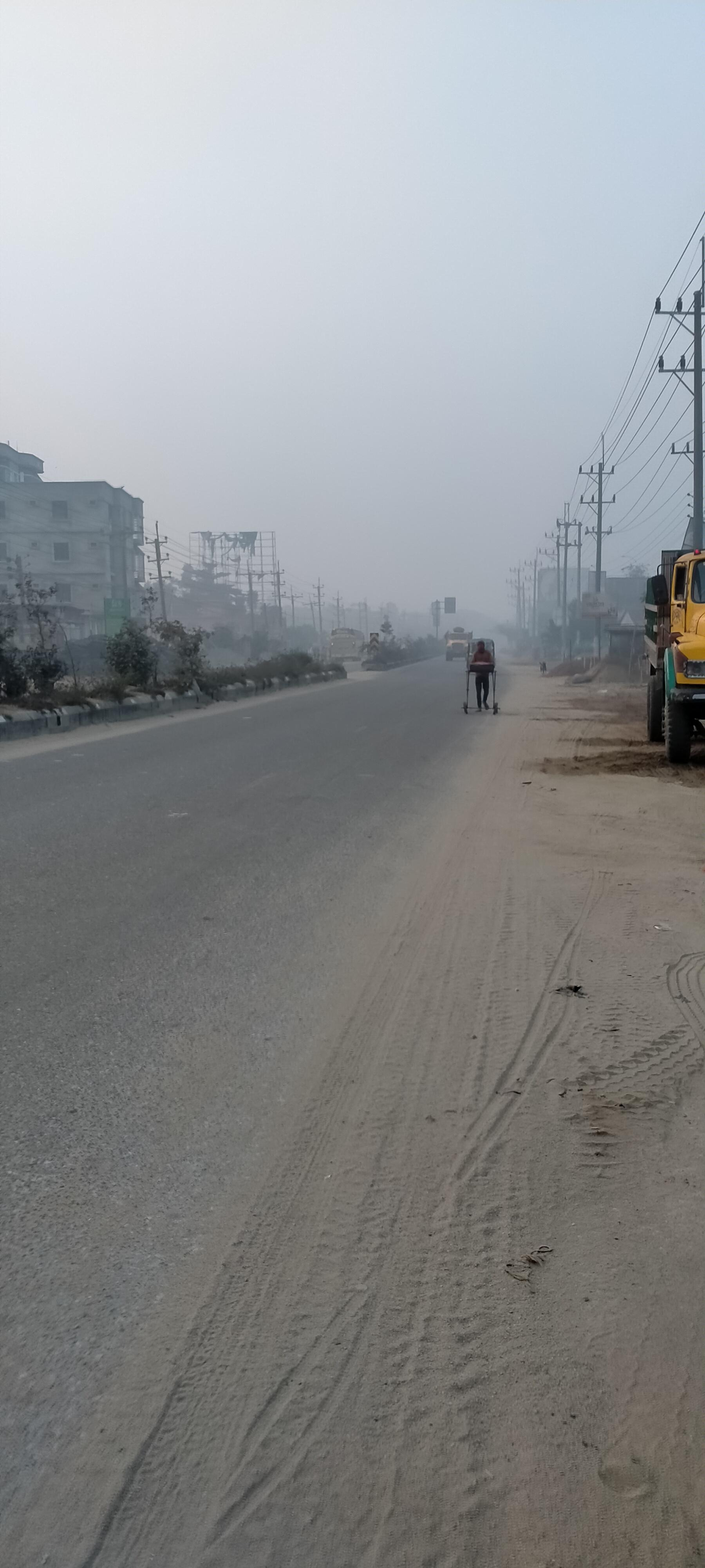Truck: (599, 503, 705, 782), (427, 614, 480, 670)
